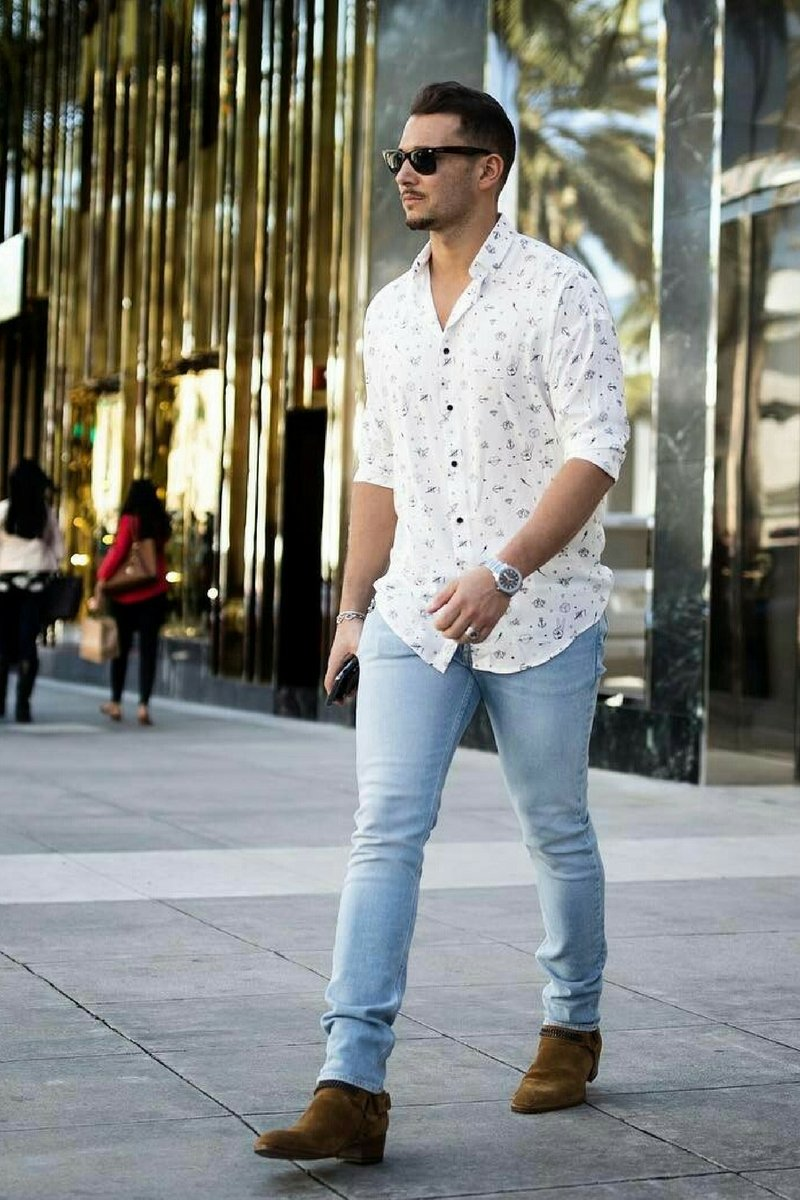NOTSAFE: (348, 81, 609, 699)
